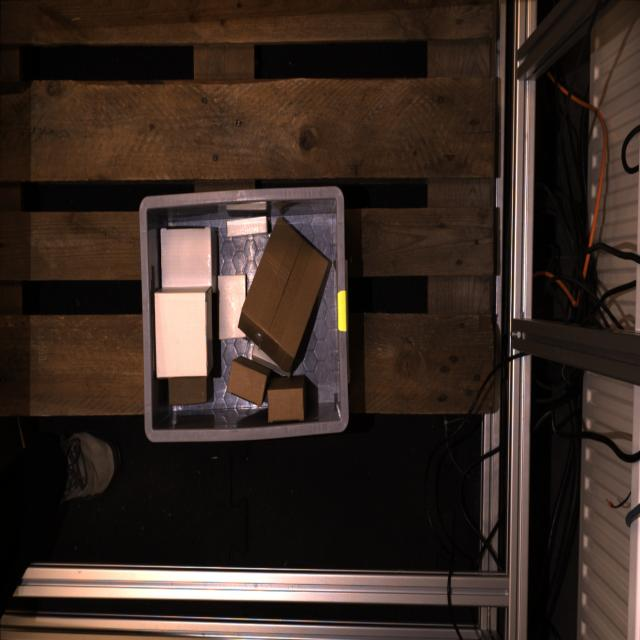CardboardBox: (239, 218, 329, 370), (154, 286, 214, 378), (161, 227, 218, 292), (227, 356, 271, 406), (218, 275, 246, 339), (267, 376, 305, 422), (157, 378, 208, 405), (252, 345, 289, 376), (227, 216, 267, 237)
